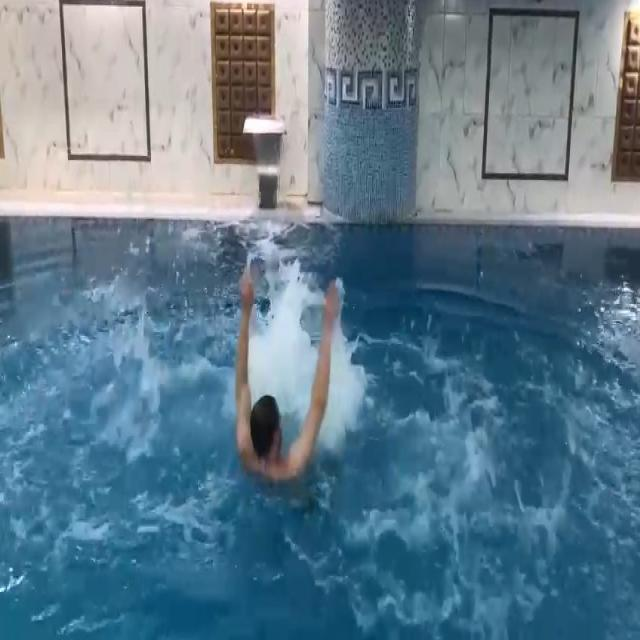Drowning: (234, 271, 344, 494)
